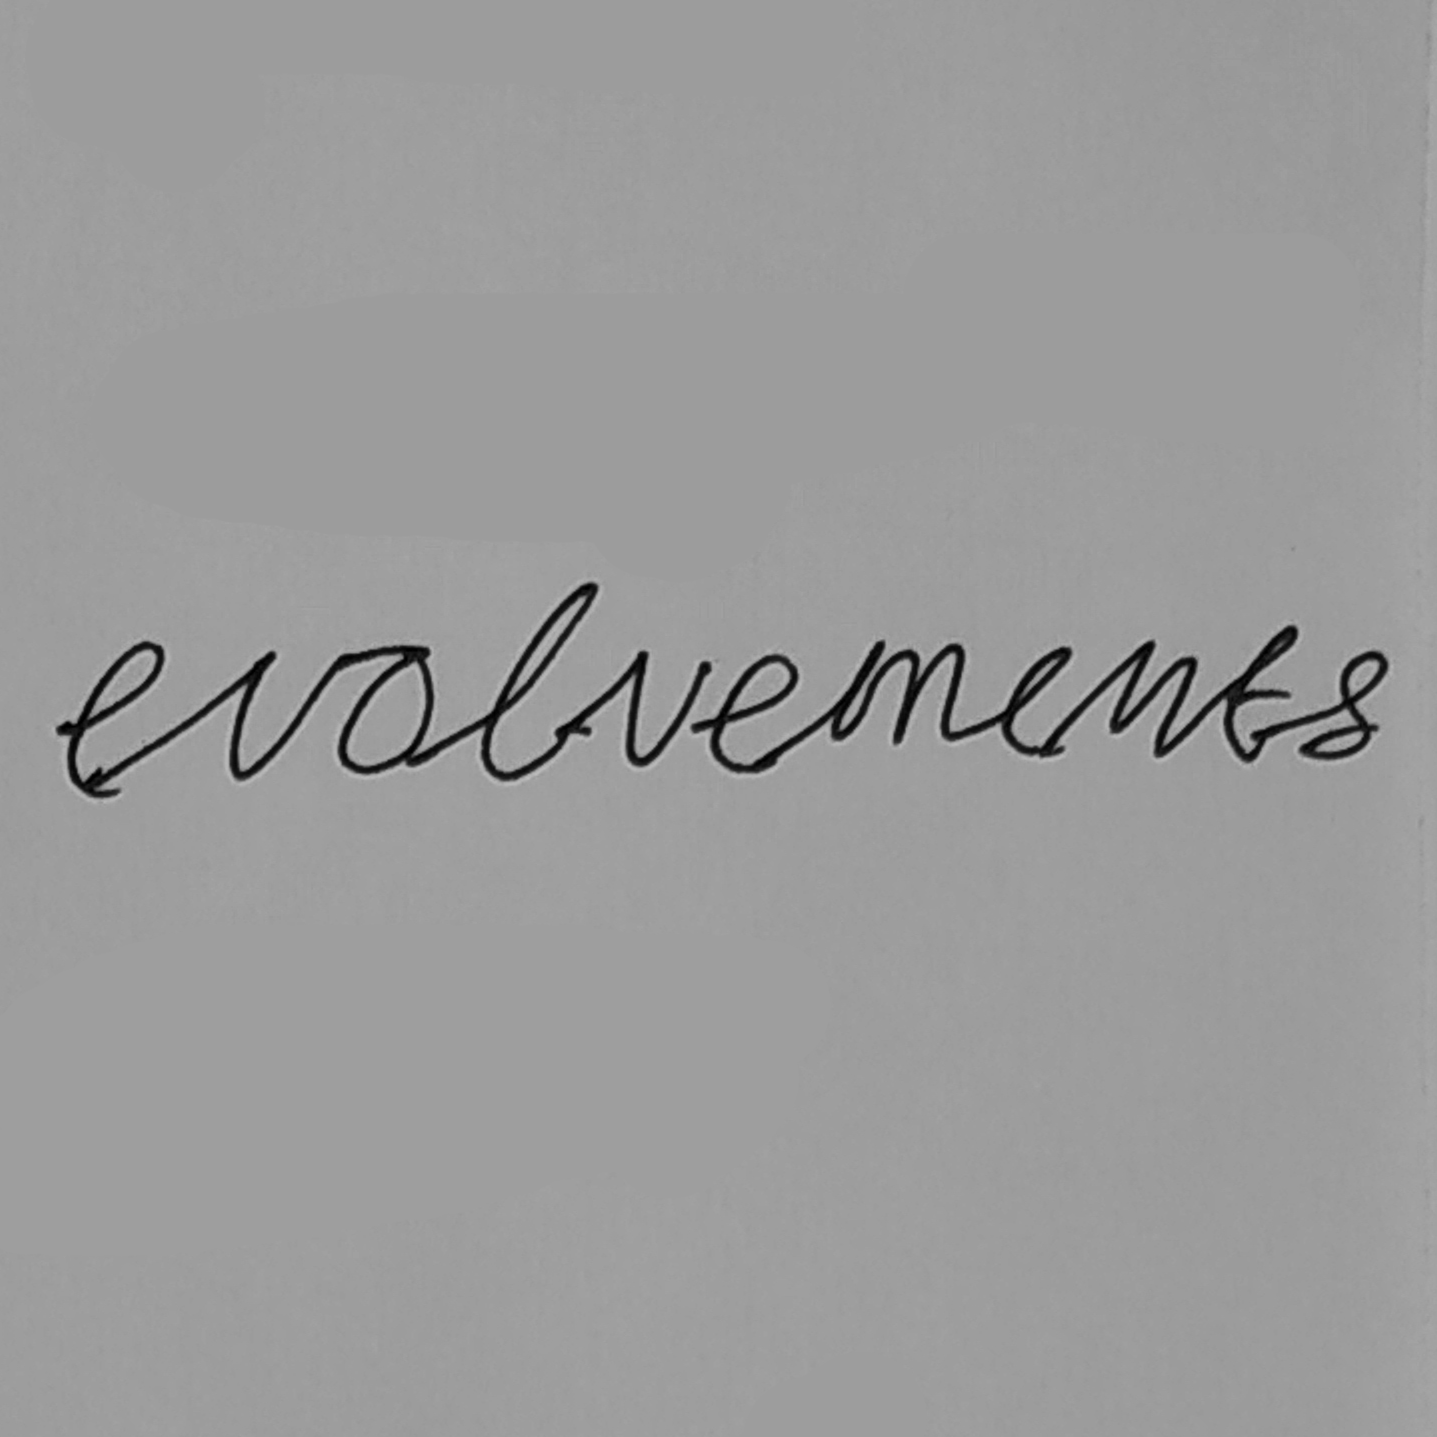e: (57, 637, 168, 805), (709, 650, 801, 778), (996, 643, 1079, 763)
l: (476, 578, 601, 784)
m: (826, 636, 969, 751)
n: (1105, 636, 1201, 761)
o: (337, 643, 438, 776)
s: (1301, 649, 1391, 765)
t: (1219, 621, 1299, 765)
v: (225, 643, 345, 786), (618, 647, 707, 774)
